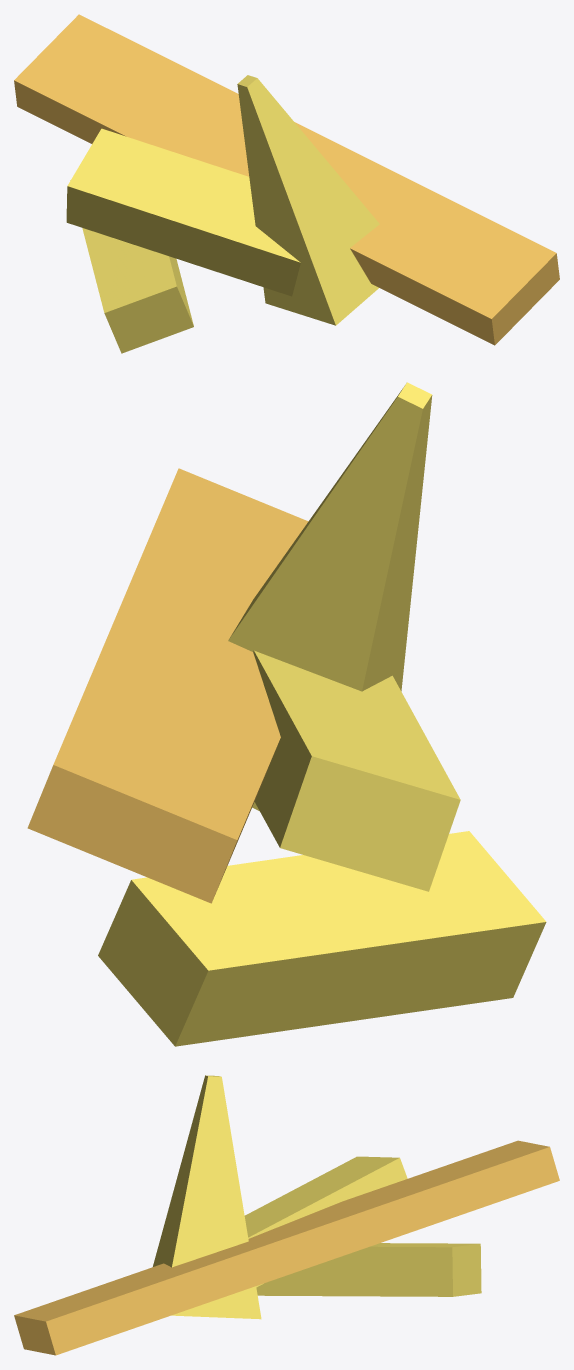
Rendered from sig_cheetah.glb.
The picture shows the model from 3 angles, top to bottom: view 1: azimuth 30°, elevation 25°; view 2: azimuth 150°, elevation 25°; view 3: azimuth 270°, elevation 25°; orthographic projection. The views are drawn at different scales.
Parts seen in each view (by area): view 1: Cube.002, Cube, Cone, Cube.001; view 2: Cube.002, Cube.001, Cube, Cone; view 3: Cube.002, Cone, Cube.001, Cube.
Part boxes in pixels (x1,y1,x2,y2): Cube.002: (14, 14, 559, 345); Cube: (66, 128, 300, 296); Cone: (237, 75, 379, 325); Cube.001: (70, 180, 193, 353); Cube.002: (27, 468, 308, 903); Cube.001: (98, 831, 546, 1046); Cube: (253, 650, 460, 891); Cone: (228, 382, 432, 810); Cube.002: (14, 1140, 559, 1355); Cone: (153, 1075, 261, 1319); Cube.001: (256, 1243, 481, 1296); Cube: (244, 1156, 407, 1287).
Size of the model in its own units: 0.1794 by 0.1439 by 0.2745.
